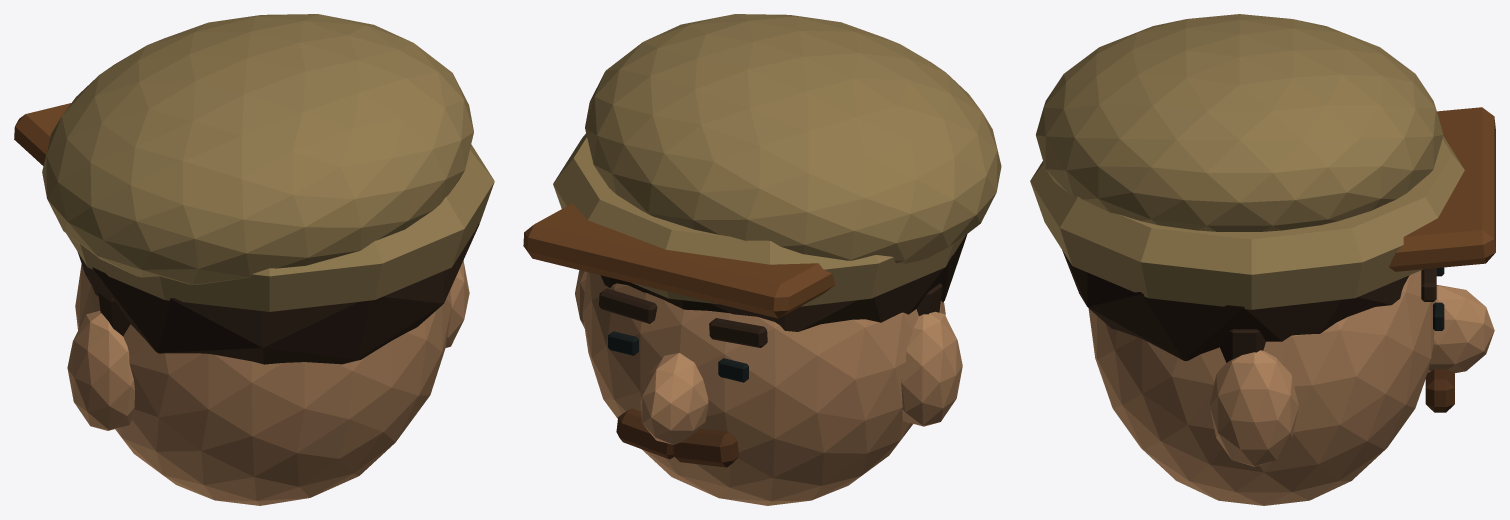
Rendered from Head.glb.
3 views of the same model, side by side, from view 1: azimuth 30°, elevation 25°; view 2: azimuth 150°, elevation 25°; view 3: azimuth 270°, elevation 25° (orthographic). The views are drawn at different scales.
Parts seen in each view (by area): view 1: Sculpture; view 2: Sculpture; view 3: Sculpture.
Boxes of the visible parts, x1,y1,x2,y2 form: Sculpture: [14, 14, 494, 505]; Sculpture: [523, 14, 1001, 505]; Sculpture: [1030, 14, 1495, 505].
Bounding box in the file's own units: 0.5641 × 0.6049 × 0.5735.
